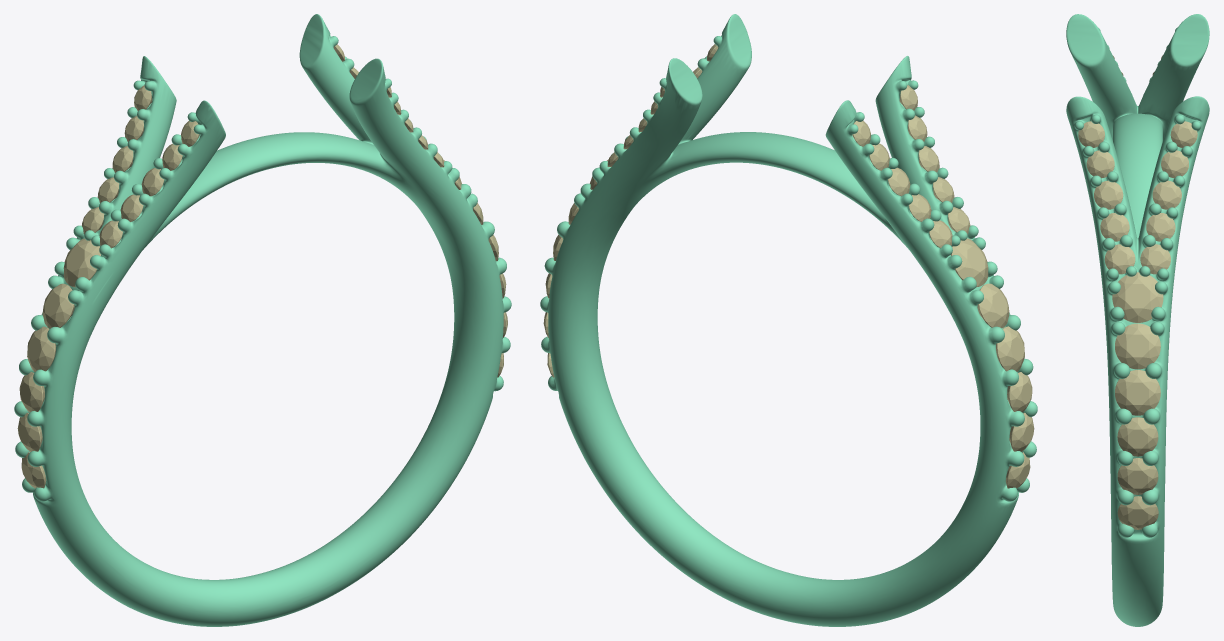
3 renders of one model, left to right at view 1: azimuth 30°, elevation 25°; view 2: azimuth 150°, elevation 25°; view 3: azimuth 270°, elevation 25°, orthographic. The views are drawn at different scales.
Parts seen in each view (by area): view 1: Metal02, Diamond_Gem.027, Diamond_Gem.015, Diamond_Gem.014, Diamond_Gem.011; view 2: Metal02, Diamond_Gem.027, Diamond_Gem.015, Diamond_Gem.014, Diamond_Gem.011; view 3: Metal02, Diamond_Gem.004, Diamond_Gem.005, Diamond_Gem.006, Diamond_Gem.009, Diamond_Gem.008, Diamond_Gem.007, Diamond_Gem.031, Diamond_Gem, Diamond_Gem.029, Diamond_Gem.022, Diamond_Gem.001 (+5 smaller).
Part boxes in pixels (box(x1,y1,x2,y2)): Metal02: box(14, 14, 511, 626); Diamond_Gem.027: box(63, 238, 100, 287); Diamond_Gem.015: box(42, 283, 74, 328); Diamond_Gem.014: box(27, 326, 56, 371); Diamond_Gem.011: box(19, 372, 44, 412); Metal02: box(540, 14, 1037, 626); Diamond_Gem.027: box(951, 238, 988, 287); Diamond_Gem.015: box(977, 283, 1009, 328); Diamond_Gem.014: box(996, 326, 1024, 371); Diamond_Gem.011: box(1007, 372, 1032, 412); Metal02: box(1066, 14, 1209, 626); Diamond_Gem.004: box(1112, 272, 1163, 322); Diamond_Gem.005: box(1115, 323, 1160, 369); Diamond_Gem.006: box(1115, 370, 1160, 415); Diamond_Gem.009: box(1117, 417, 1158, 456); Diamond_Gem.008: box(1117, 458, 1158, 494); Diamond_Gem.007: box(1117, 496, 1158, 529); Diamond_Gem.031: box(1104, 244, 1135, 274); Diamond_Gem: box(1152, 180, 1181, 209); Diamond_Gem.029: box(1094, 180, 1123, 209); Diamond_Gem.022: box(1140, 244, 1170, 274); Diamond_Gem.001: box(1146, 213, 1175, 241).
Bounding box in the file's own units: 21.26 × 23.6 × 5.61.
